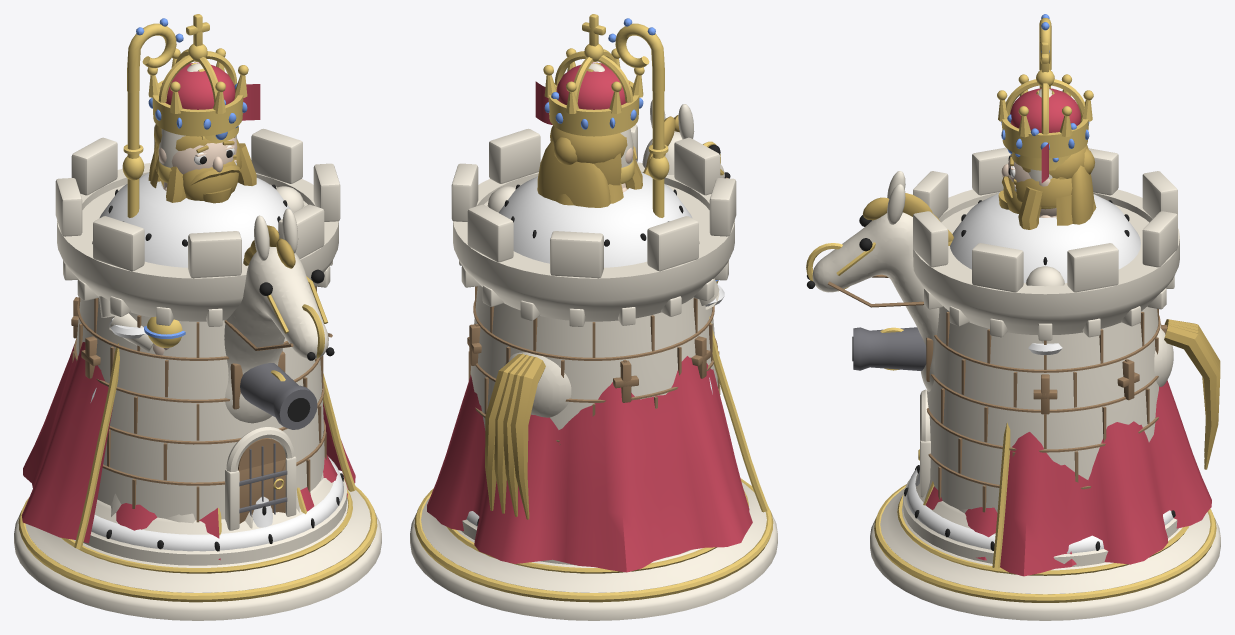
File: pieces.glb
The picture shows the model from 3 angles, left to right: view 1: azimuth 30°, elevation 25°; view 2: azimuth 150°, elevation 25°; view 3: azimuth 270°, elevation 25°; orthographic projection. The views are drawn at different scales.
Parts seen in each view (by area): view 1: r_body, k_body, k_cape, n_horse, b_staff, q_body, r_cannon, b_body, r_flag; view 2: r_body, k_cape, k_body, n_tail, b_staff, n_horse, q_hair, q_body, b_body; view 3: r_body, k_body, k_cape, n_horse, q_body, r_cannon, n_tail, q_hair, k_arm.
Boxes of the visible parts, x1,y1,x2,y2 form: r_body: (55,125,346,565); k_body: (14,14,381,620); k_cape: (21,342,356,549); n_horse: (224,208,334,423); b_staff: (122,18,183,217); q_body: (116,83,347,560); r_cannon: (240,363,317,429); b_body: (157,62,236,190); r_flag: (242,84,260,120); r_body: (451,124,736,565); k_cape: (427,316,768,572); k_body: (410,14,777,620); n_tail: (485,353,545,519); b_staff: (608,18,669,217); n_horse: (504,100,730,417); q_hair: (537,141,623,207); q_body: (551,92,642,189); b_body: (587,62,634,192); r_body: (903,147,1179,567); k_body: (870,42,1220,620); k_cape: (992,380,1211,576); n_horse: (806,171,1173,391); q_body: (923,114,1094,565); r_cannon: (852,327,926,370); n_tail: (1164,319,1220,469); q_hair: (1056,165,1096,225); k_arm: (1026,266,1064,355).
Bounding box in the file's own units: 0.7447 × 1.27 × 0.8744.
